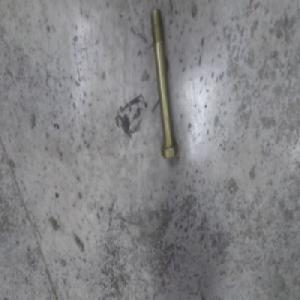Bolt: (150, 9, 178, 160)
